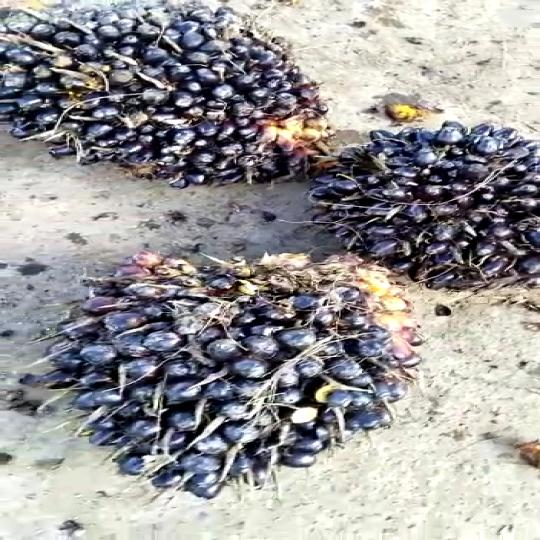mentah: (38, 247, 450, 509), (0, 0, 345, 197), (295, 115, 540, 311)
